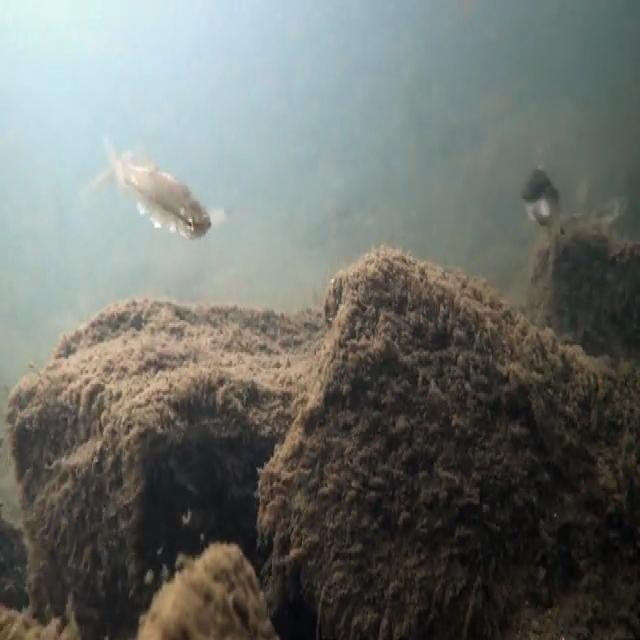Cakil Baligi: (94, 129, 214, 244)
